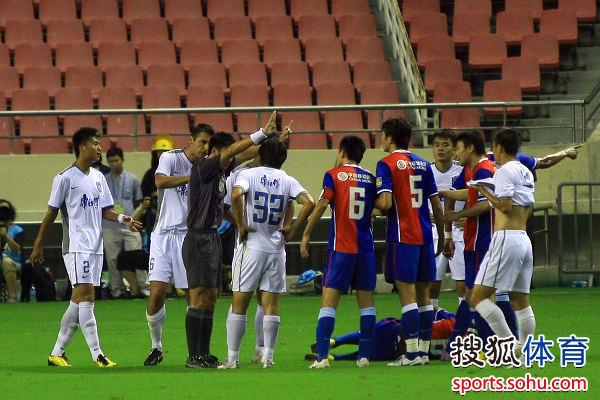down: (328, 294, 530, 370)
up: (27, 124, 139, 370), (187, 108, 284, 372), (364, 114, 448, 368), (225, 143, 310, 372), (300, 132, 381, 371), (143, 125, 212, 372), (476, 131, 547, 362), (420, 127, 475, 308), (102, 144, 150, 299), (450, 134, 495, 299)
